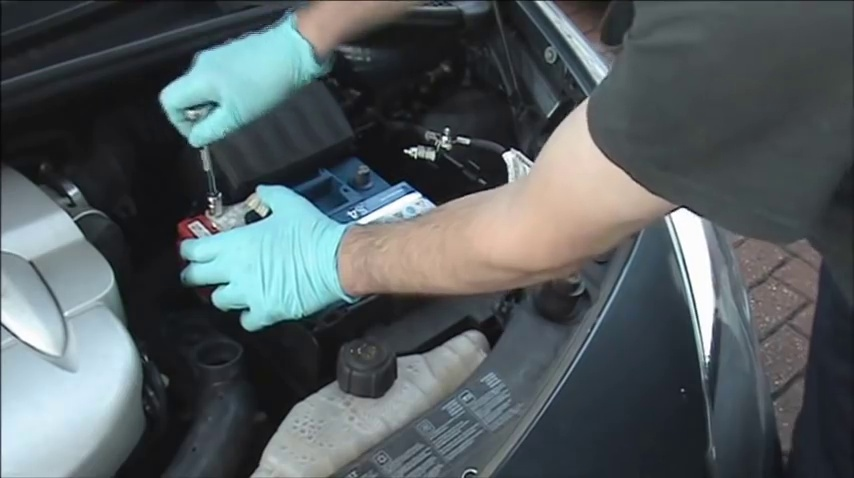battery: (184, 152, 455, 250)
neg_disconnected: (348, 156, 392, 199)
pos_touched: (173, 167, 286, 295)
